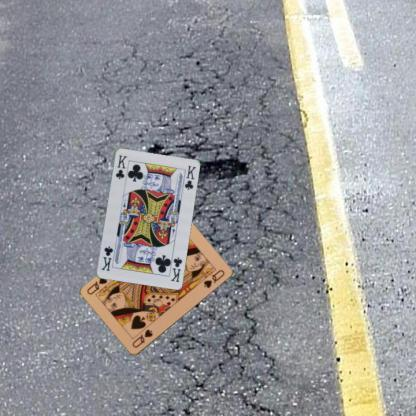Kc: (168, 254, 184, 284), (113, 152, 128, 180)
Qs: (130, 326, 154, 350)
